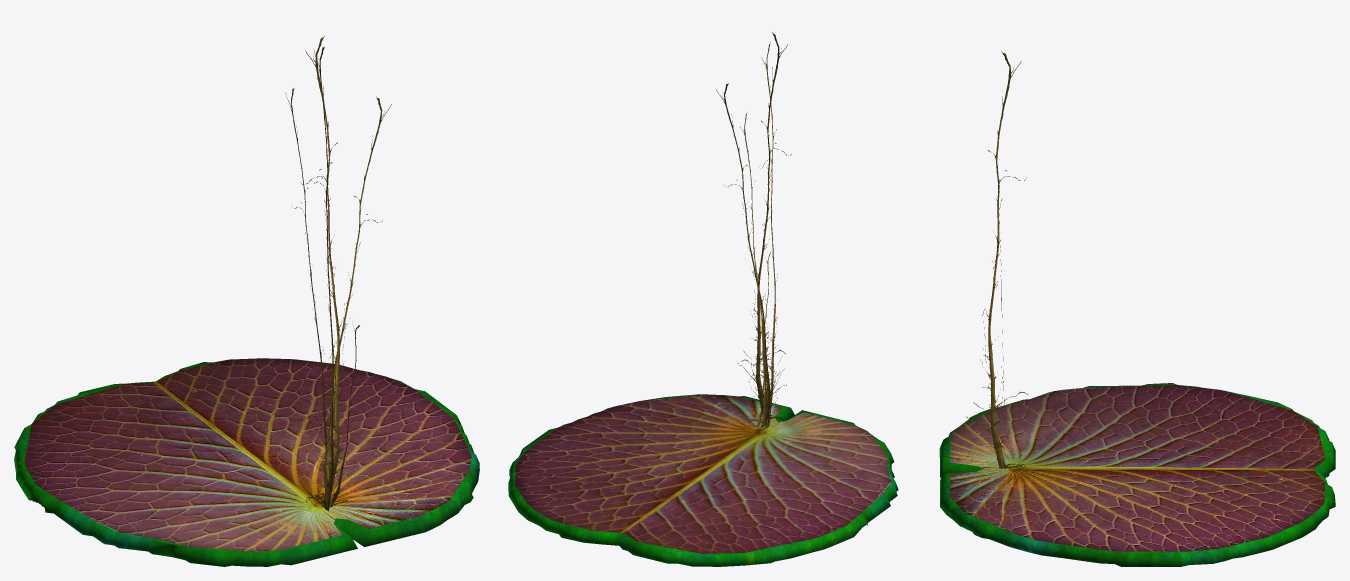
File: Lotus-Leaf.fbx
3 views of the same model, side by side, from view 1: azimuth 30°, elevation 25°; view 2: azimuth 150°, elevation 25°; view 3: azimuth 270°, elevation 25° (orthographic). The views are drawn at different scales.
Parts seen in each view (by area): view 1: Lotus; view 2: Lotus; view 3: Lotus.
Boxes of the visible parts, x1,y1,x2,y2 form: Lotus: (14, 35, 479, 566); Lotus: (508, 32, 898, 566); Lotus: (939, 51, 1335, 566).
Size of the model in its own units: 198 by 232 by 194.
